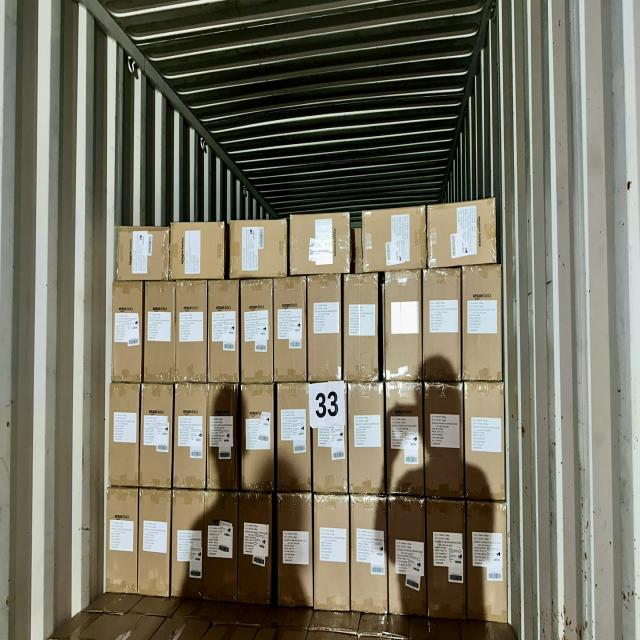Carton: (468, 501, 510, 623), (466, 381, 508, 502), (426, 502, 465, 622), (424, 383, 464, 500), (464, 267, 504, 383), (426, 202, 496, 268), (389, 498, 428, 616), (422, 266, 461, 381), (276, 494, 314, 610), (351, 498, 388, 617), (384, 382, 422, 497), (315, 497, 352, 615), (380, 274, 420, 383), (361, 205, 428, 270), (313, 382, 351, 493), (348, 384, 385, 496), (343, 273, 380, 380), (237, 495, 271, 609), (292, 216, 353, 277), (276, 385, 310, 493), (306, 278, 340, 385), (138, 489, 171, 598), (205, 494, 237, 606), (274, 277, 308, 382), (239, 385, 272, 492), (174, 493, 206, 603), (108, 486, 140, 594), (238, 279, 271, 383), (176, 385, 209, 489), (232, 222, 290, 281), (140, 385, 172, 489), (114, 280, 146, 382), (177, 280, 209, 382), (208, 280, 240, 382), (173, 225, 228, 282), (112, 384, 142, 488), (144, 280, 174, 382), (208, 385, 237, 490), (116, 228, 168, 284)
